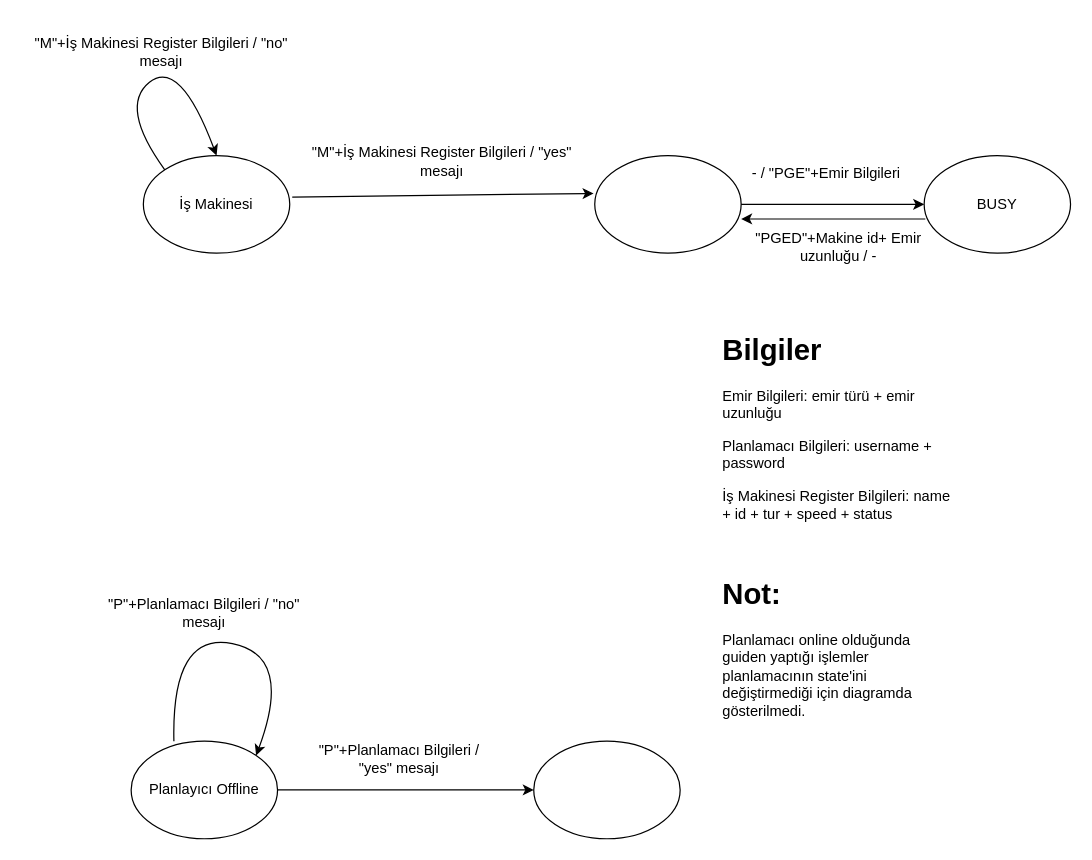
The diagram is 1092 pixels wide and 860 high, and some of its shapes have lost their labels. Here are the shapes that lost their labels. From the top down, the box of each, then its label:
(594, 154, 741, 253): EMPTY
(533, 740, 680, 839): Planlamaci Online
